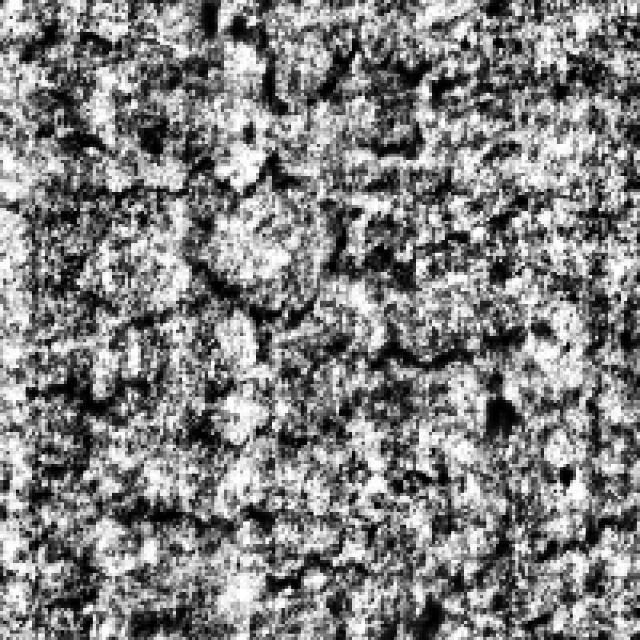Pitted_Surface: (73, 397, 624, 596), (96, 150, 557, 378), (179, 0, 522, 157)
